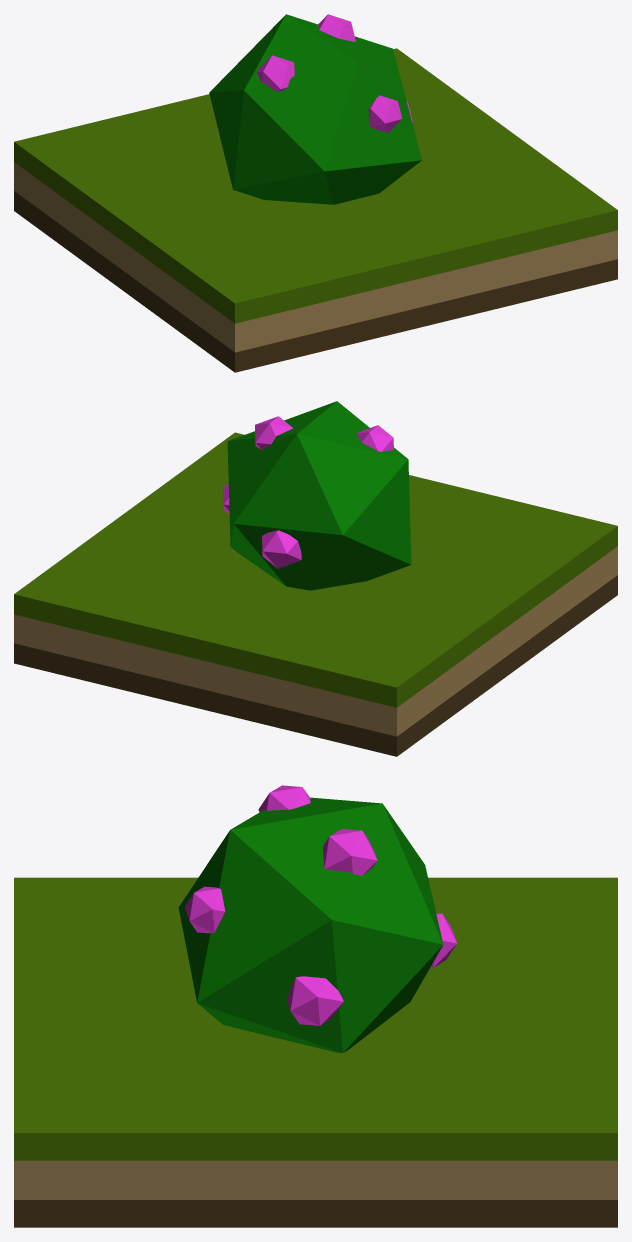
Rendered from bush with flower_ver02.fbx.
3 renders of one model, top to bottom at view 1: azimuth 30°, elevation 25°; view 2: azimuth 150°, elevation 25°; view 3: azimuth 270°, elevation 25°, orthographic. The views are drawn at different scales.
Parts seen in each view (by area): view 1: tree ground.004, flower bush.003, Icosphere.012, Icosphere.020, Icosphere.013; view 2: tree ground.004, flower bush.003, Icosphere.026, Icosphere.013, Icosphere.012; view 3: tree ground.004, flower bush.003, Icosphere.037, Icosphere.013, Icosphere.020, Icosphere.012, Icosphere.026.
Part boxes in pixels (box(x1,y1,x2,y2)): tree ground.004: box(14, 48, 617, 372); flower bush.003: box(209, 14, 421, 204); Icosphere.012: box(256, 55, 294, 91); Icosphere.020: box(368, 95, 402, 132); Icosphere.013: box(318, 14, 355, 41); tree ground.004: box(14, 432, 617, 756); flower bush.003: box(227, 401, 411, 590); Icosphere.026: box(262, 530, 301, 568); Icosphere.013: box(255, 416, 293, 449); Icosphere.012: box(356, 425, 393, 451); tree ground.004: box(14, 877, 617, 1227); flower bush.003: box(178, 797, 443, 1052); Icosphere.037: box(286, 976, 343, 1025); Icosphere.013: box(323, 829, 377, 875); Icosphere.020: box(184, 886, 225, 933); Icosphere.012: box(258, 785, 310, 812); Icosphere.026: box(431, 913, 457, 967).
Size of the model in its own units: 194 by 104 by 194.
